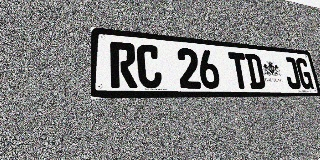2: (176, 47, 201, 89)
6: (197, 49, 221, 89)
C: (136, 44, 163, 88)
D: (244, 53, 266, 89)
G: (295, 58, 314, 89)
J: (282, 57, 302, 89)
R: (110, 41, 137, 88)
T: (228, 52, 250, 89)
